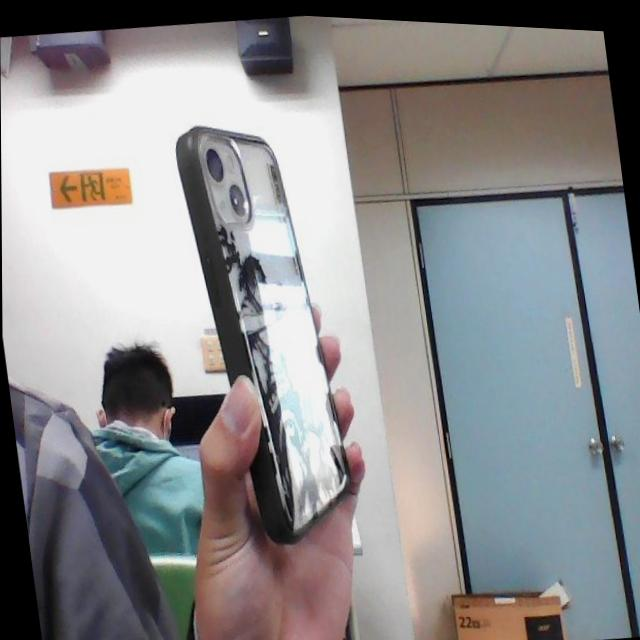Smartphone: (164, 113, 367, 572)
